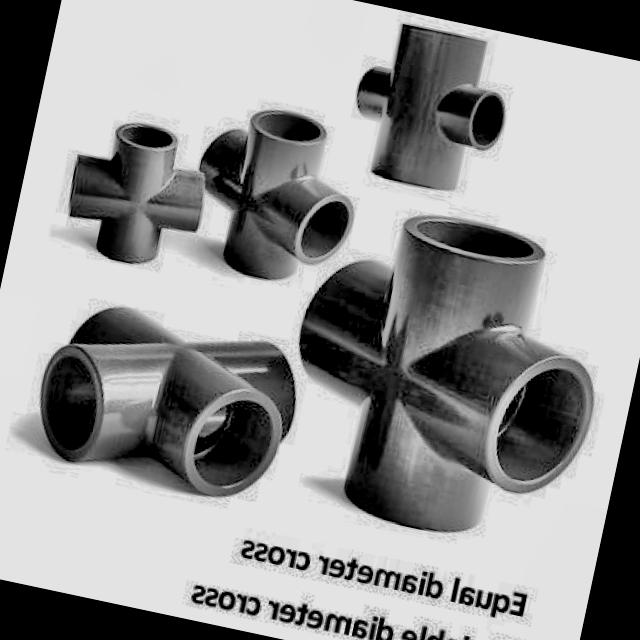EQUALCROSS: (296, 215, 594, 534), (297, 215, 595, 534), (38, 307, 297, 499), (66, 112, 354, 283), (37, 306, 296, 496), (66, 112, 354, 282)
